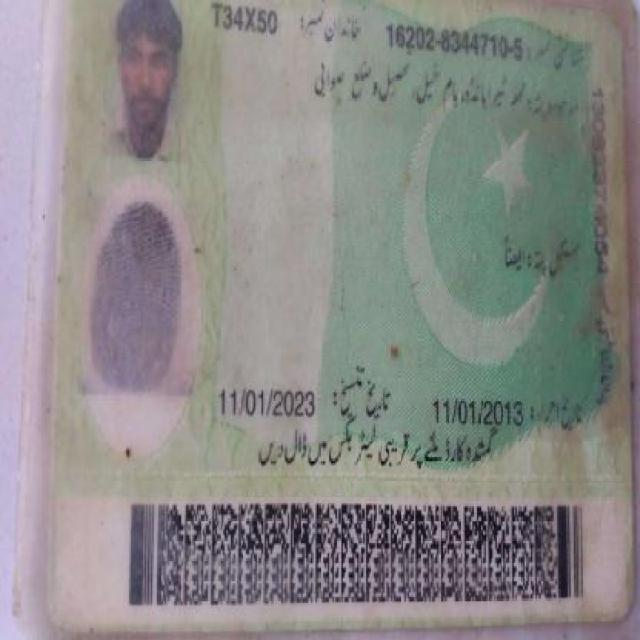Back: (37, 8, 631, 618)
